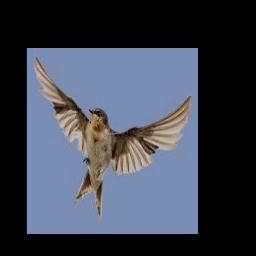Swallow: (34, 54, 193, 224)
